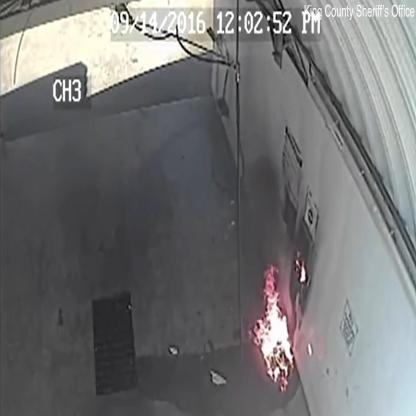fire: (253, 266, 295, 392)
